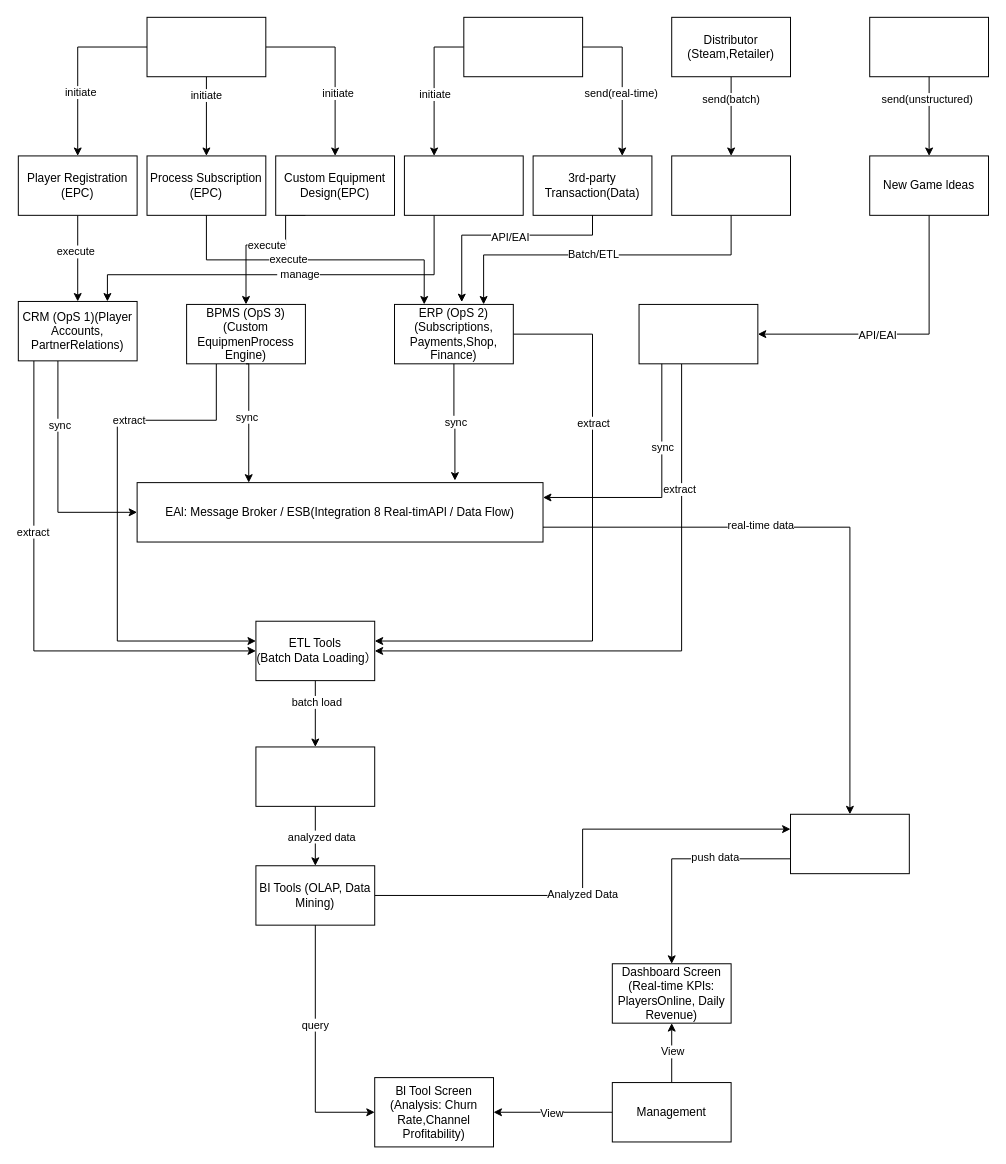
Some shapes in this 1006 by 1164 pixel diagram are drawn without their labels. The box of each missing label's shape, as (x1, y1, x2, y2) in pixels:
Authorize Supplier (EPC) (EPC): (403, 155, 523, 215)
Dashboard System: (790, 813, 909, 874)
Data Warehouse (DW): (255, 746, 375, 806)
Game Forum: (869, 16, 989, 77)
KMS (OpS 4)(Knowledge Management,Game ldeas): (638, 303, 758, 364)
Player: (146, 16, 266, 77)
Sales Report (Data)销售报告: (671, 155, 791, 215)
Third-party Supplier: (463, 16, 583, 77)
